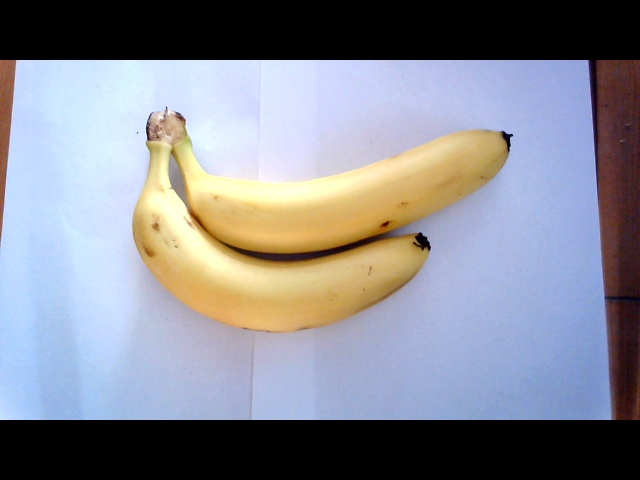banana: (132, 120, 509, 330)
